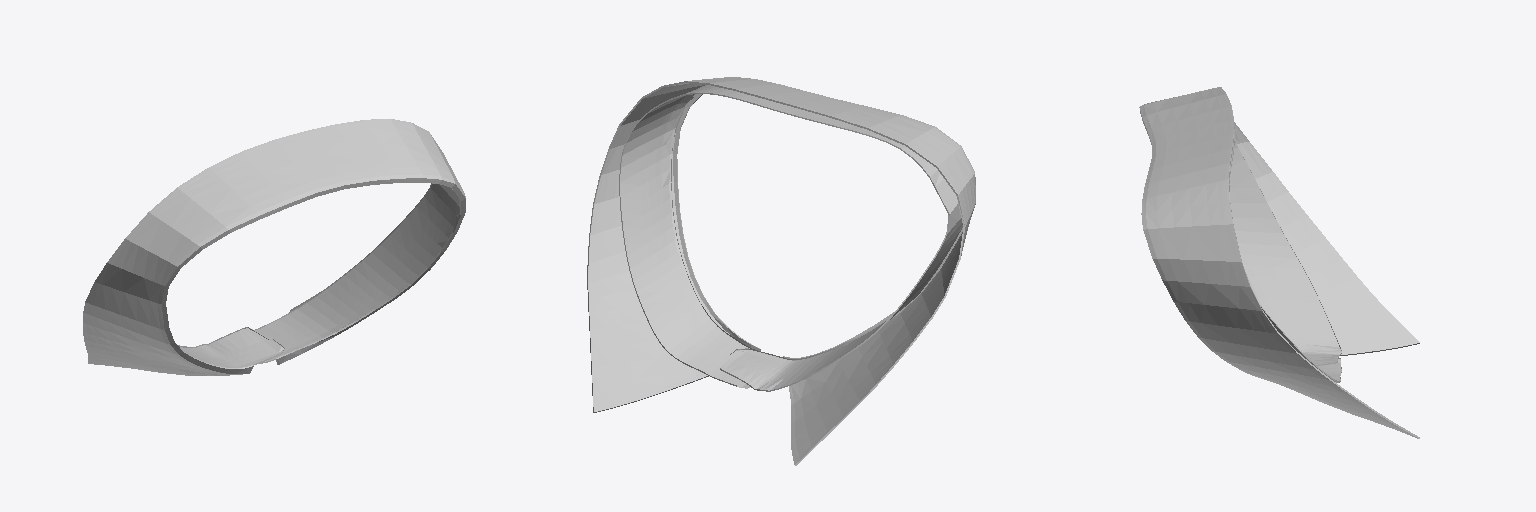
Rendered from short_button_down.obj.
The picture shows the model from 3 angles: view 1: azimuth 30°, elevation 25°; view 2: azimuth 150°, elevation 25°; view 3: azimuth 270°, elevation 25°; orthographic projection.
Parts seen in each view (by area): view 1: 13_short_Button_down, inner_collar_out; view 2: 13_short_Button_down, inner_collar_out; view 3: 13_short_Button_down, inner_collar_out.
Boxes of the visible parts, x1=… form: 13_short_Button_down: x1=83, y1=119, x2=465, y2=375; inner_collar_out: x1=178, y1=183, x2=459, y2=367; 13_short_Button_down: x1=587, y1=77, x2=975, y2=465; inner_collar_out: x1=619, y1=85, x2=962, y2=391; 13_short_Button_down: x1=1139, y1=87, x2=1419, y2=438; inner_collar_out: x1=1229, y1=127, x2=1341, y2=382.
Bounding box in the file's own units: 18.02 × 13.16 × 12.4.